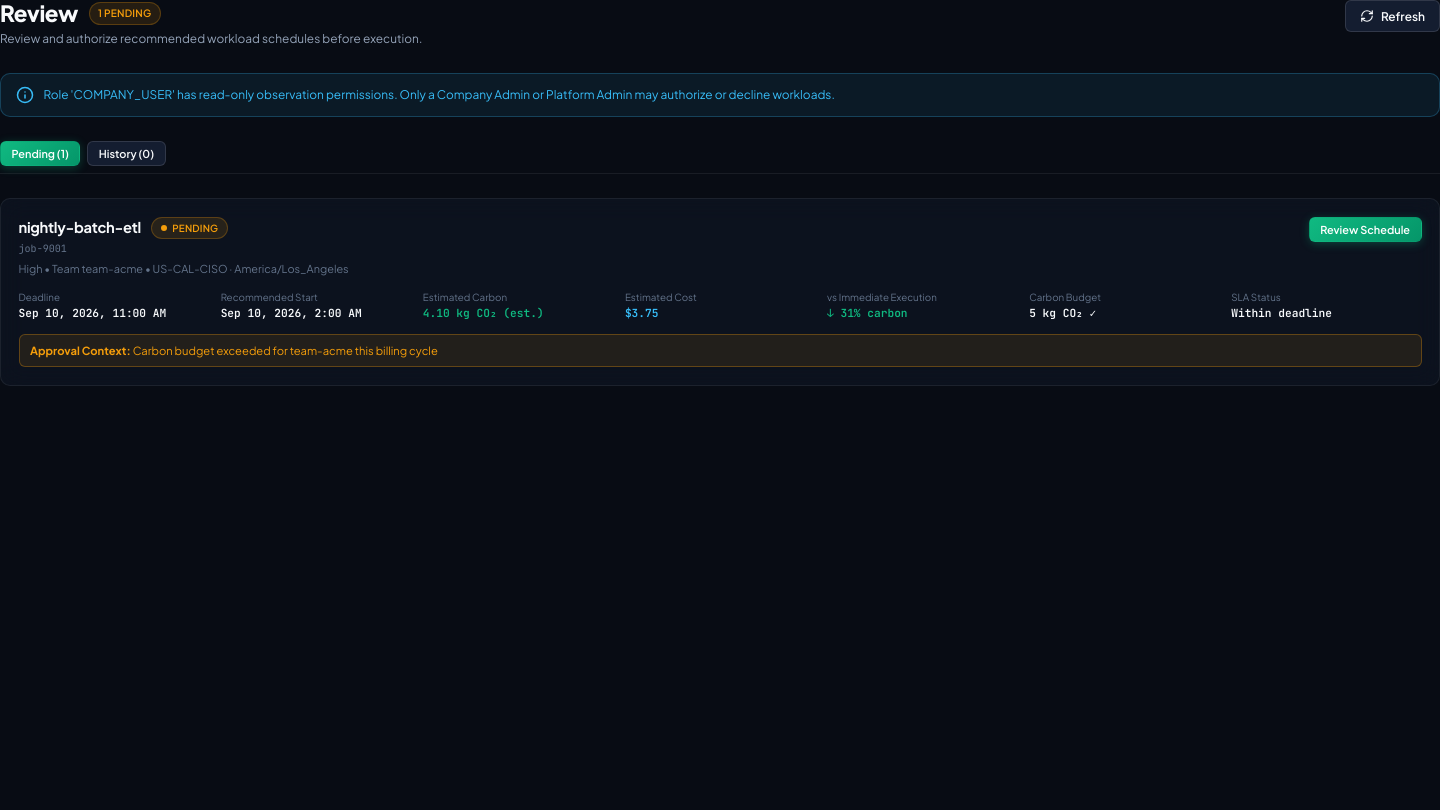
ApprovalsPage › RBAC › the review modal has no Approve/Decline actions for COMPANY_USER, only Close
The image size is (1440, 810).
Click the button "Review Schedule".
click(1365, 229)  # box [1309,217,1422,242]
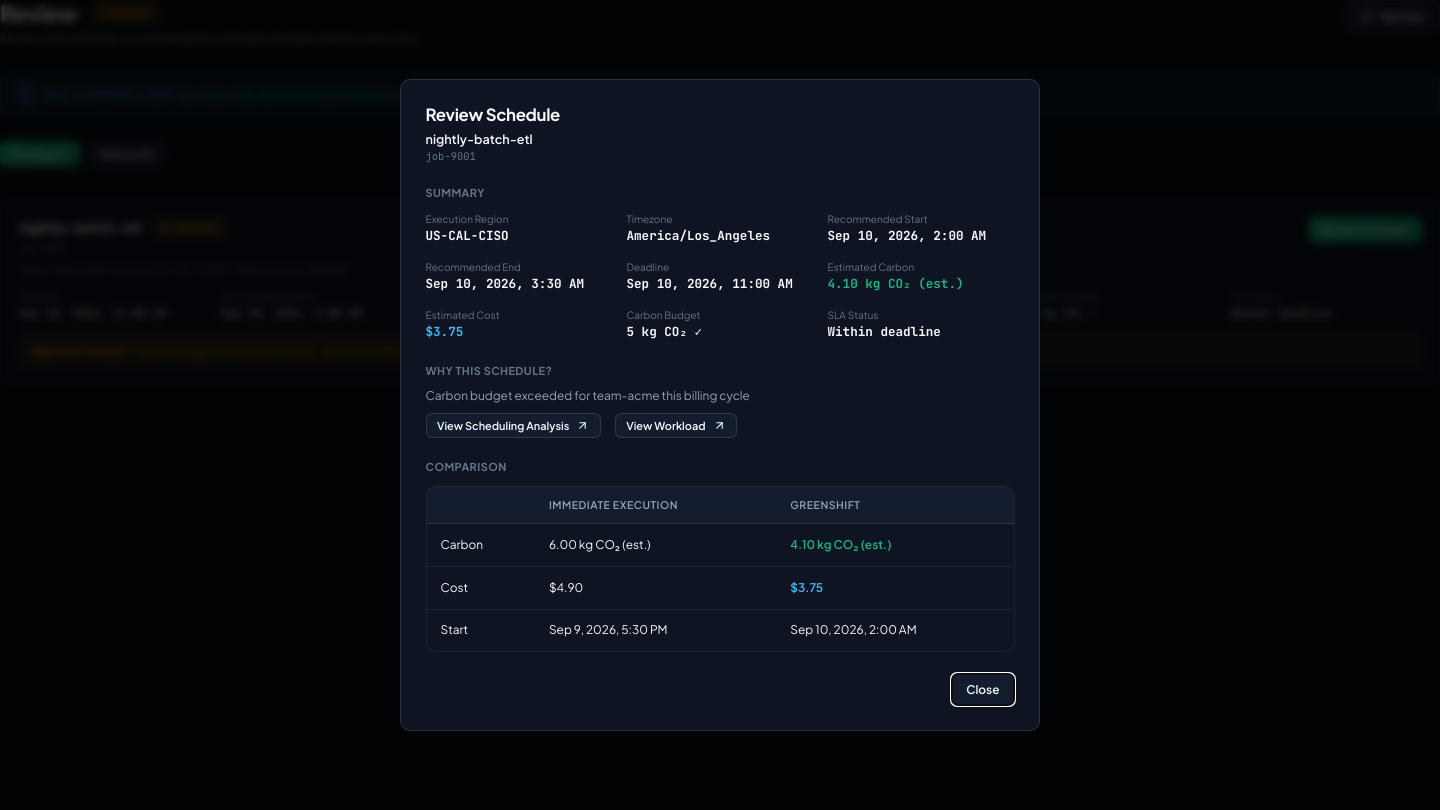
Check: the button "Close" is shown, box [951,673,1014,706]
